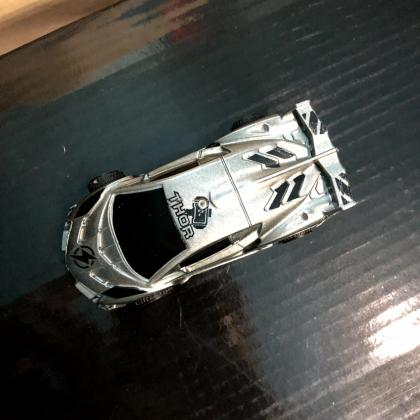Car: (61, 100, 352, 313)
